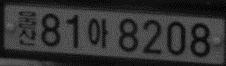0: (166, 19, 186, 56)
1: (64, 14, 83, 48)
2: (141, 18, 162, 54)
8: (117, 17, 138, 52), (189, 22, 210, 57), (40, 12, 60, 47)
아: (88, 17, 109, 48)
울산_V: (17, 9, 37, 47)
